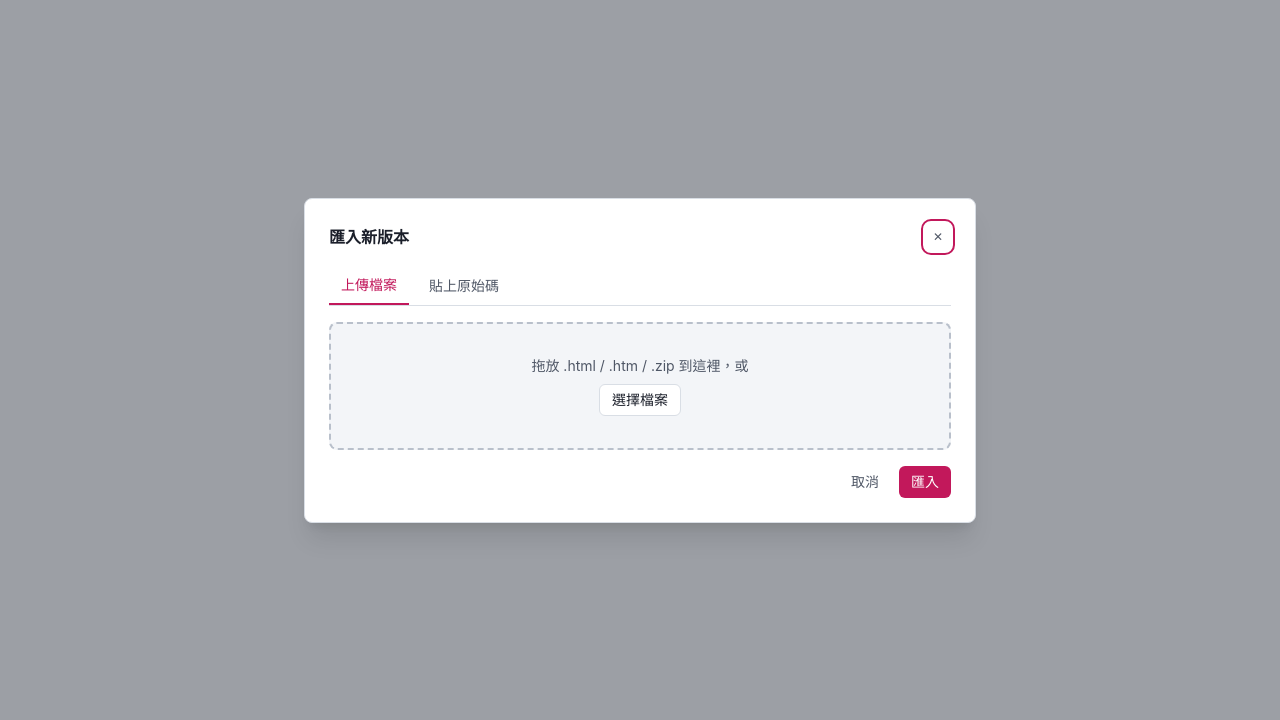
Test: ImportDialog › paste flow
Step 1. Click the tab "貼上原始碼" → click(464, 286), box [417, 266, 511, 304]
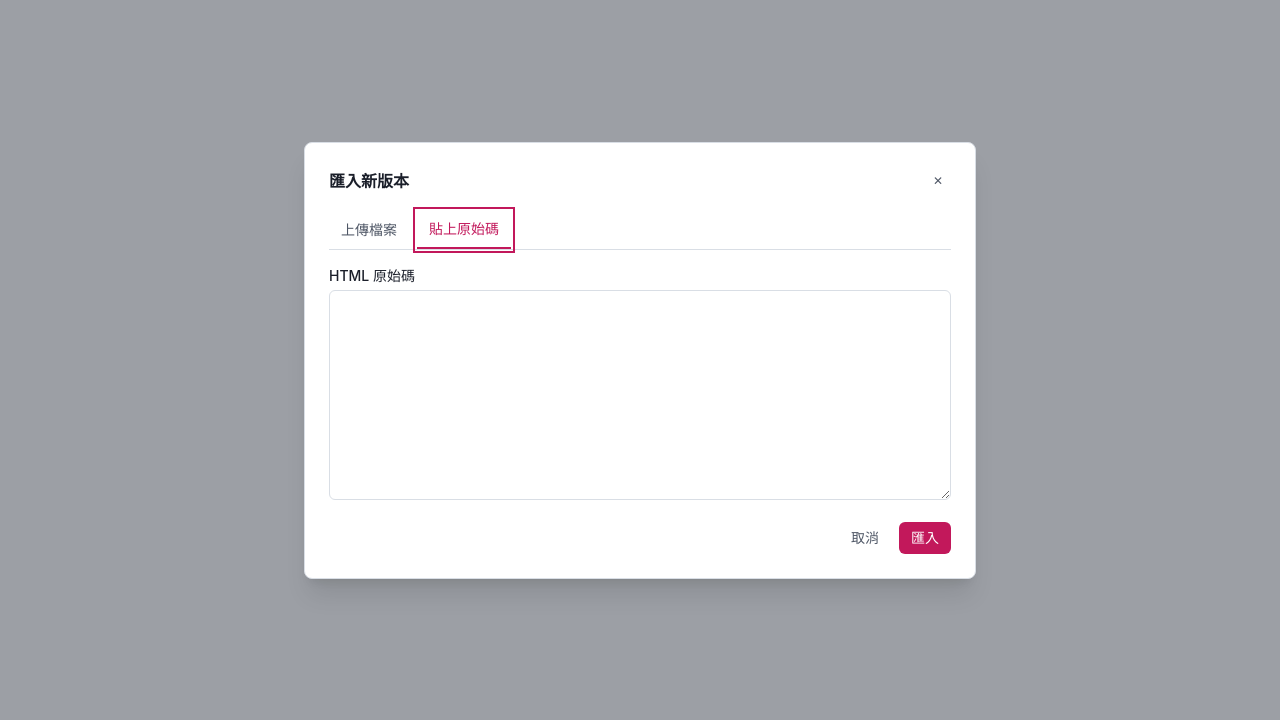
Step 2. Click the button "匯入" → click(925, 538), box [899, 522, 951, 554]
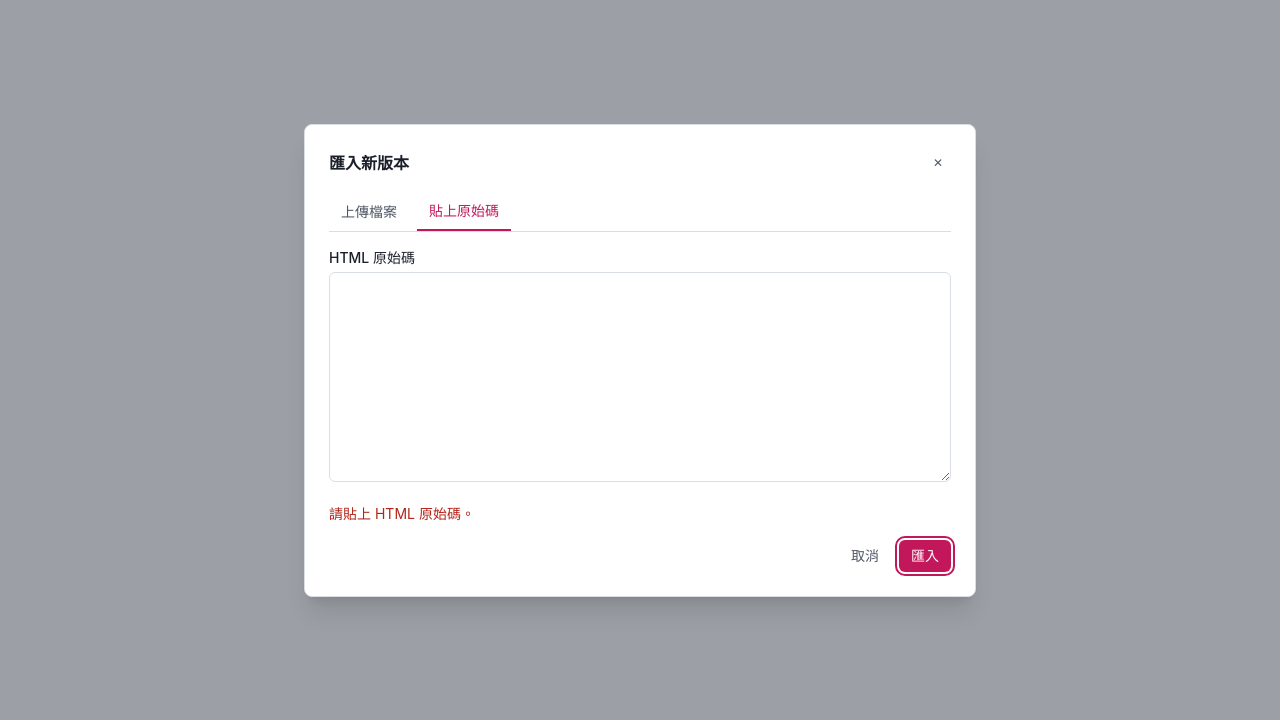
Expected: the message "請貼上 HTML 原始碼。" is shown, [329, 504, 475, 522]
Step 3. Click the text box labelled "HTML 原始碼" → click(640, 376), box [329, 272, 951, 482]
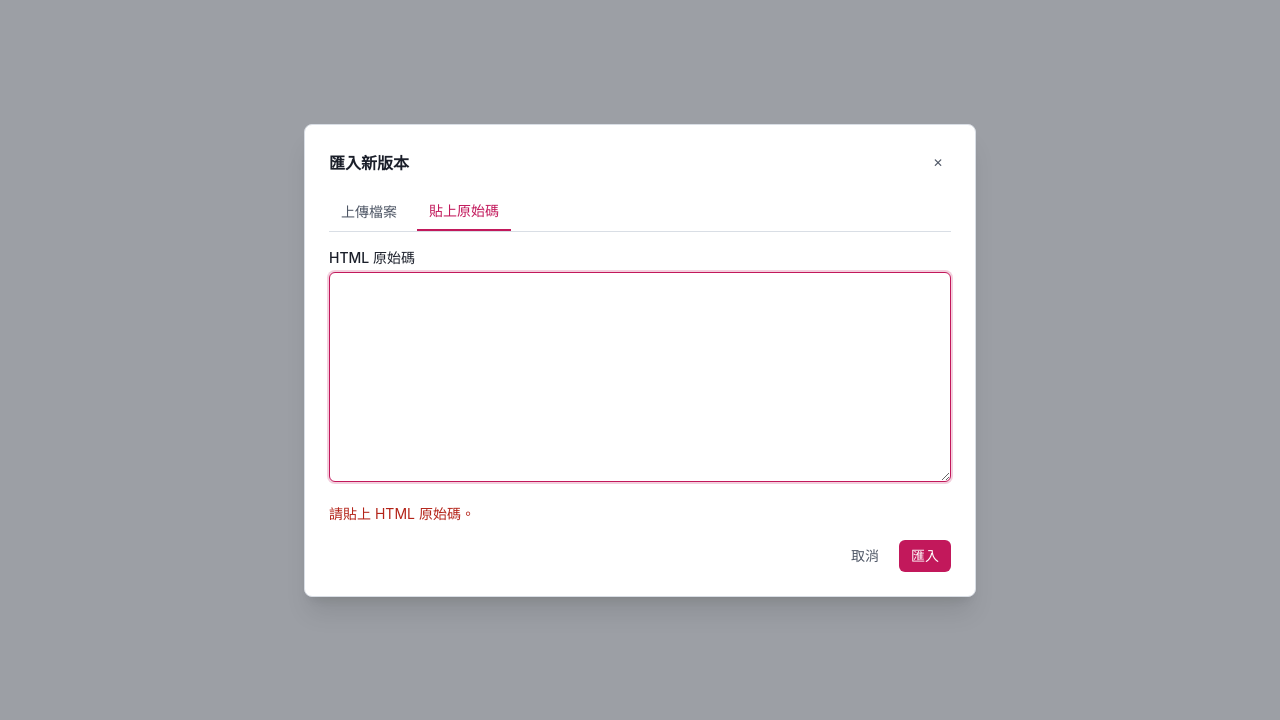
Step 4. Type keys "<h1>hi</h1>"
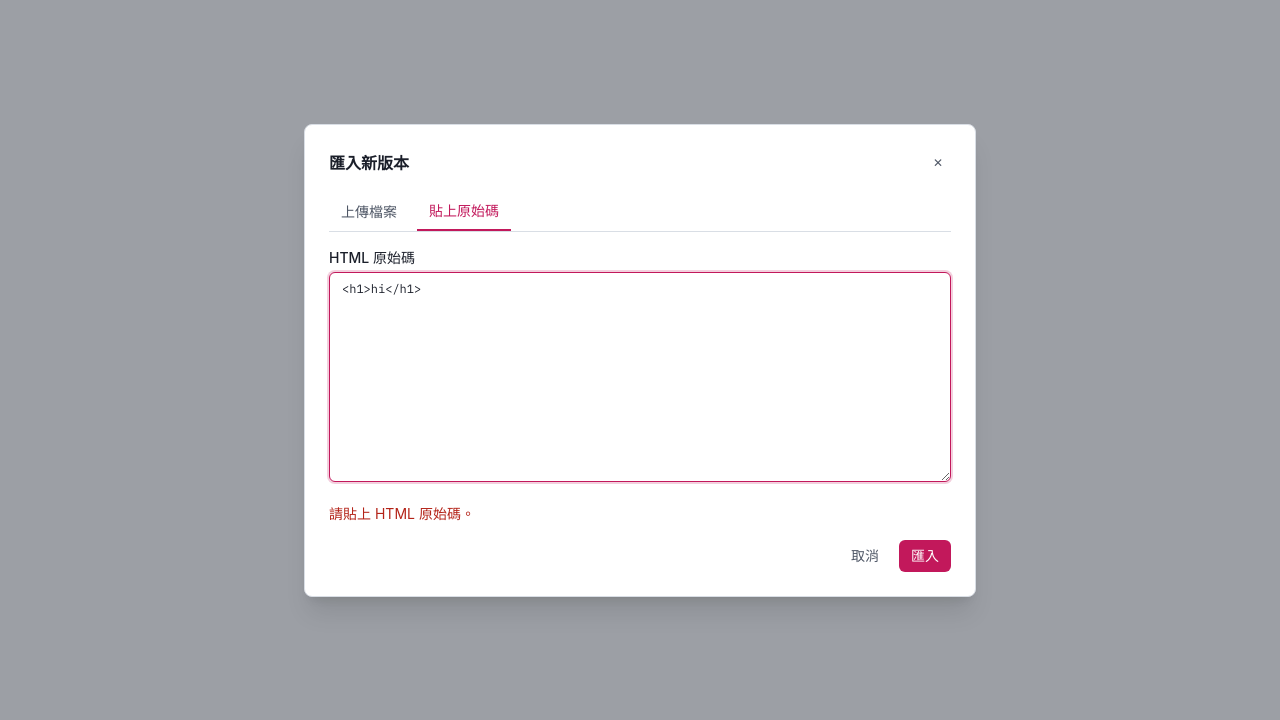
Step 5. Click the button "匯入" → click(925, 556), box [899, 540, 951, 572]
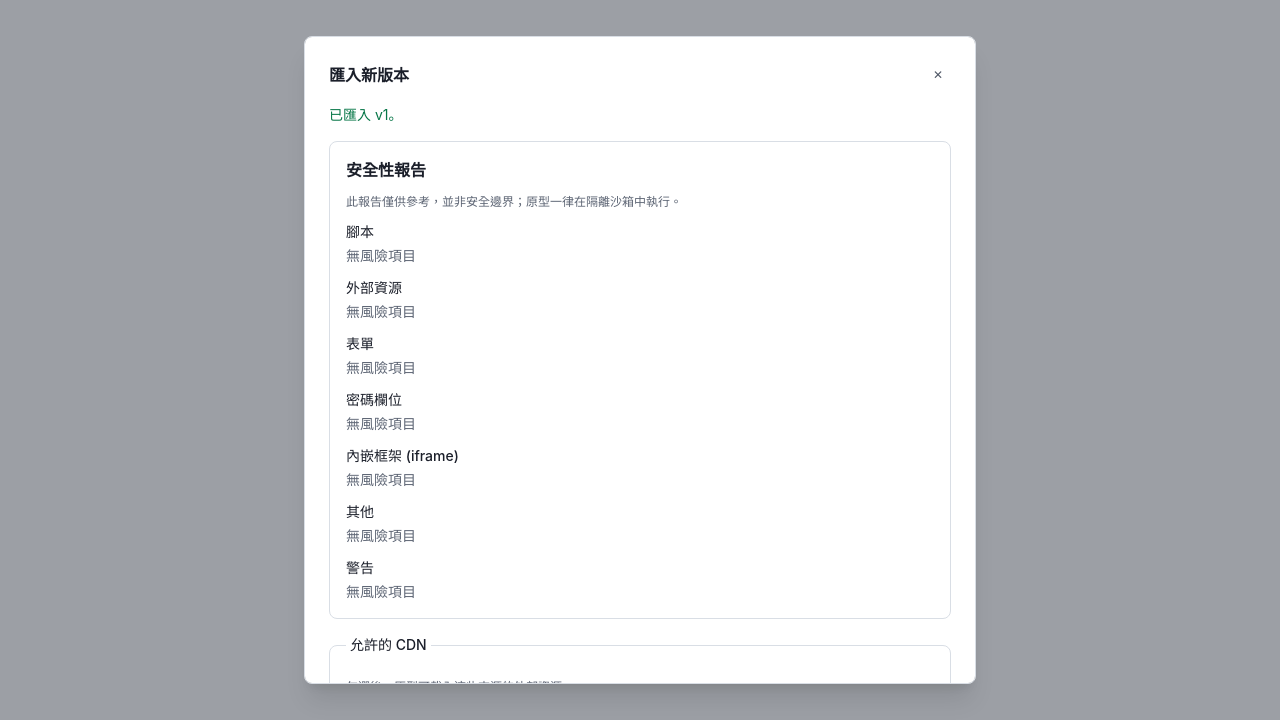
Expected: the heading "安全性報告" is shown, [346, 160, 426, 180]
